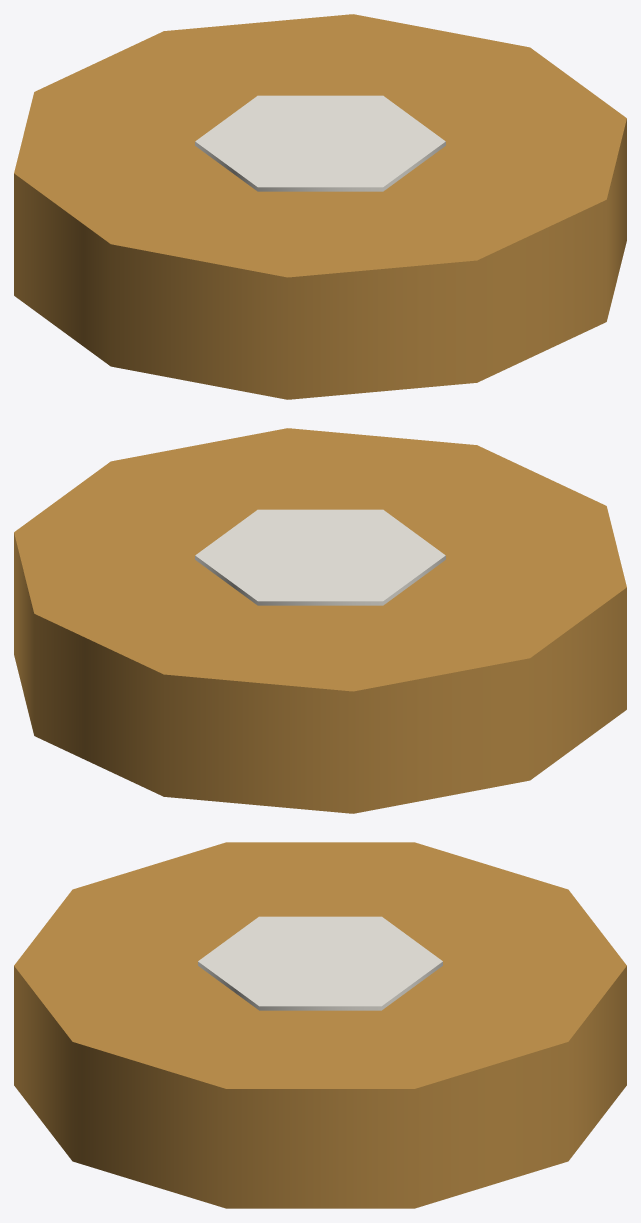
Rendered from bagel.glb.
The picture shows the model from 3 angles, top to bottom: view 1: azimuth 30°, elevation 25°; view 2: azimuth 150°, elevation 25°; view 3: azimuth 270°, elevation 25°; orthographic projection. The views are drawn at different scales.
Visible parts, largest first — view 1: #c8964a_noshadow, #f0ede4_noshadow; view 2: #c8964a_noshadow, #f0ede4_noshadow; view 3: #c8964a_noshadow, #f0ede4_noshadow.
Part boxes in pixels (x1,y1,x2,y2): #c8964a_noshadow: (14, 14, 626, 399); #f0ede4_noshadow: (195, 95, 445, 191); #c8964a_noshadow: (14, 428, 626, 813); #f0ede4_noshadow: (195, 509, 445, 605); #c8964a_noshadow: (14, 842, 626, 1208); #f0ede4_noshadow: (198, 916, 442, 1010).
Bounding box in the file's own units: 0.1236 × 0.03 × 0.13.
